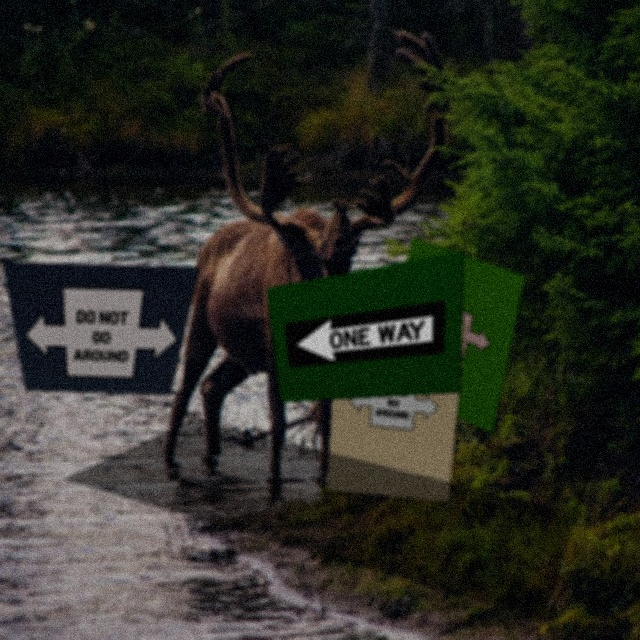DO_NOT_GO_AROUND: (18, 279, 195, 385), (404, 293, 497, 367), (344, 372, 441, 433)
ONE_WAY_ left: (285, 301, 450, 375)
